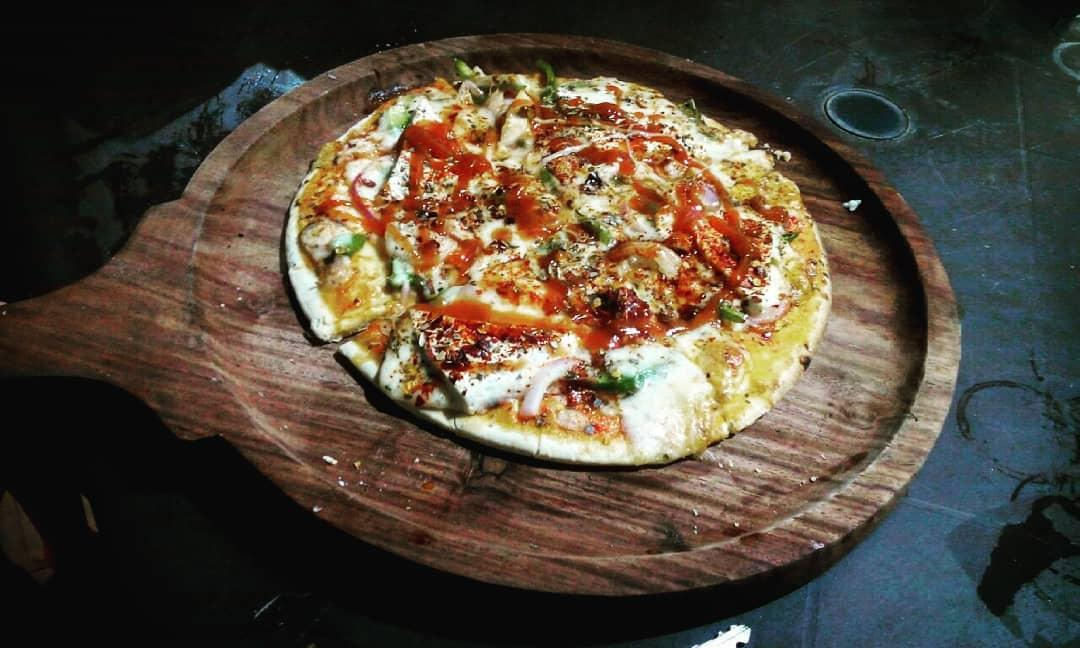Cheese: (599, 345, 710, 426)
Pizza: (288, 68, 834, 458)
Tomatoes: (428, 267, 581, 347), (674, 160, 757, 289), (404, 121, 492, 208), (530, 119, 647, 171)
